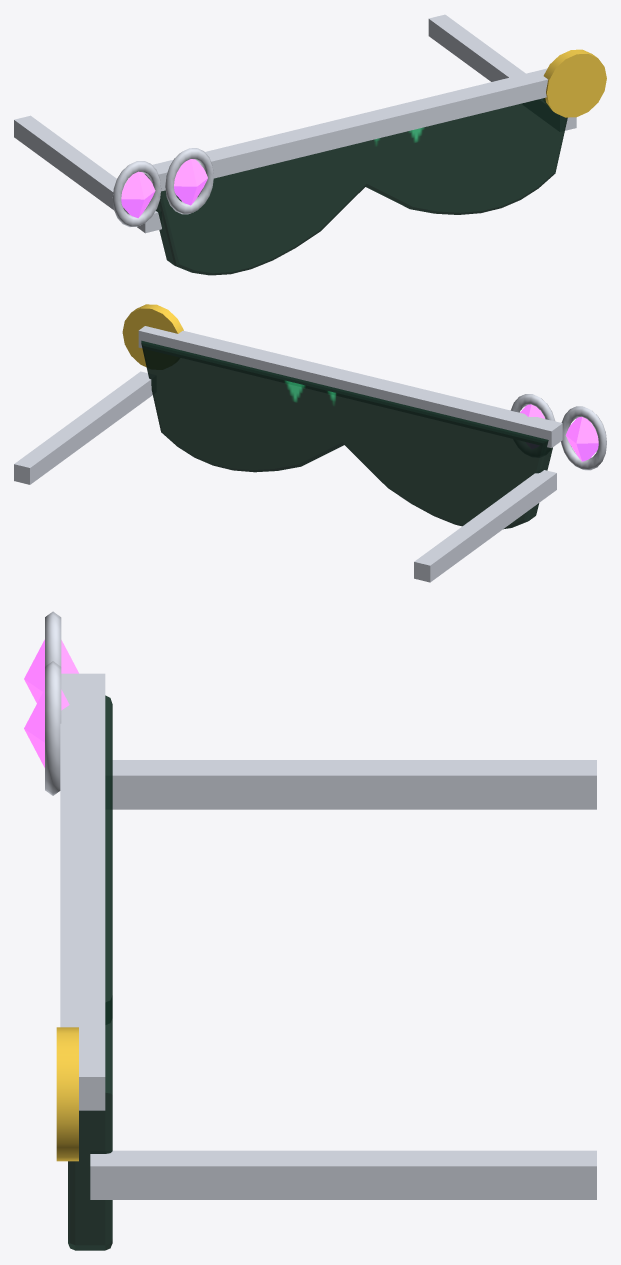
File: gl_eqtz2.glb
3 views of the same model, one above another, from view 1: azimuth 30°, elevation 25°; view 2: azimuth 150°, elevation 25°; view 3: azimuth 270°, elevation 25° (orthographic). The views are drawn at different scales.
Size of the model in its own units: 2.28 by 0.6225 by 1.18.
